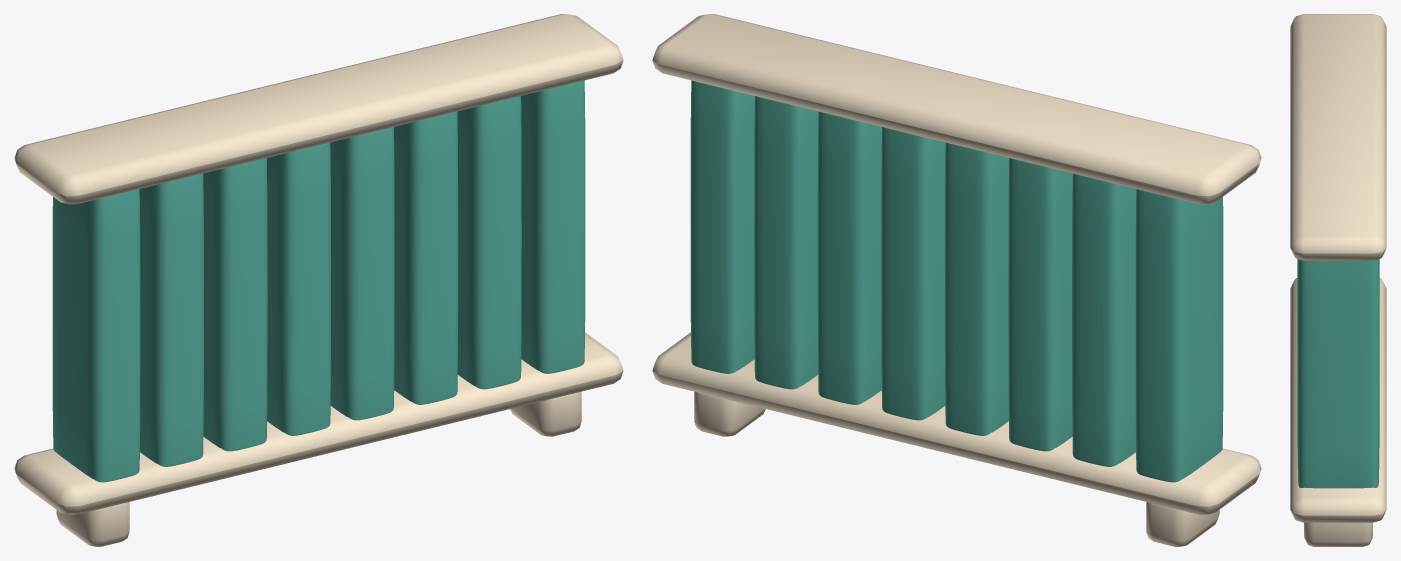
The model's file is radiator_b.glb.
3 renders of one model, left to right at view 1: azimuth 30°, elevation 25°; view 2: azimuth 150°, elevation 25°; view 3: azimuth 270°, elevation 25°, orthographic. The views are drawn at different scales.
Visible parts, largest first — view 1: body; view 2: body; view 3: body.
Part boxes in pixels (<box>): body: <box>14,14,623,546</box>; body: <box>652,14,1261,546</box>; body: <box>1290,14,1386,546</box>.
Size of the model in its own units: 0.8 by 0.52 by 0.14.
